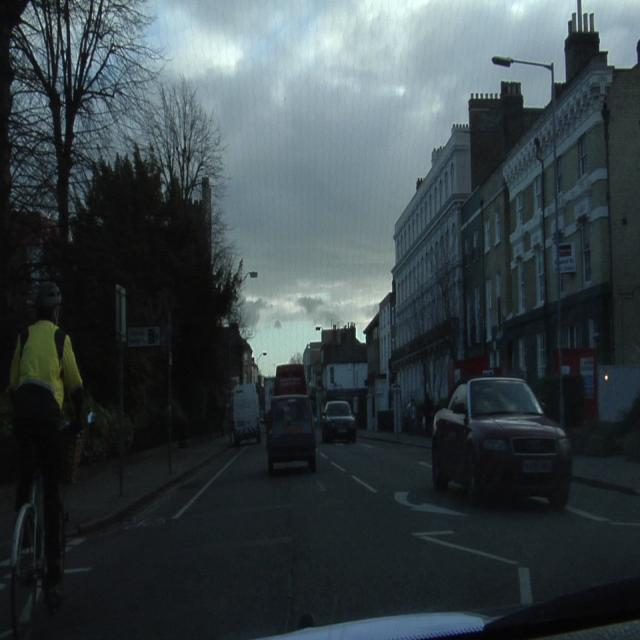Bicyclist: (8, 279, 83, 624)
Building: (393, 13, 638, 430), (304, 293, 394, 429)
Car: (432, 377, 571, 508), (267, 395, 315, 471), (322, 402, 355, 442)
Road: (24, 436, 639, 634)
Tree: (4, 0, 241, 434)
Truck_Bus: (233, 384, 261, 443)
